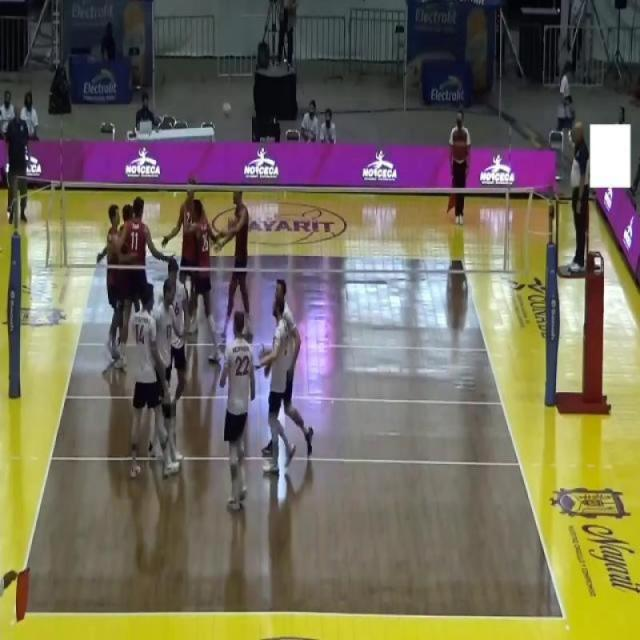volleyball: (222, 101, 232, 121)
